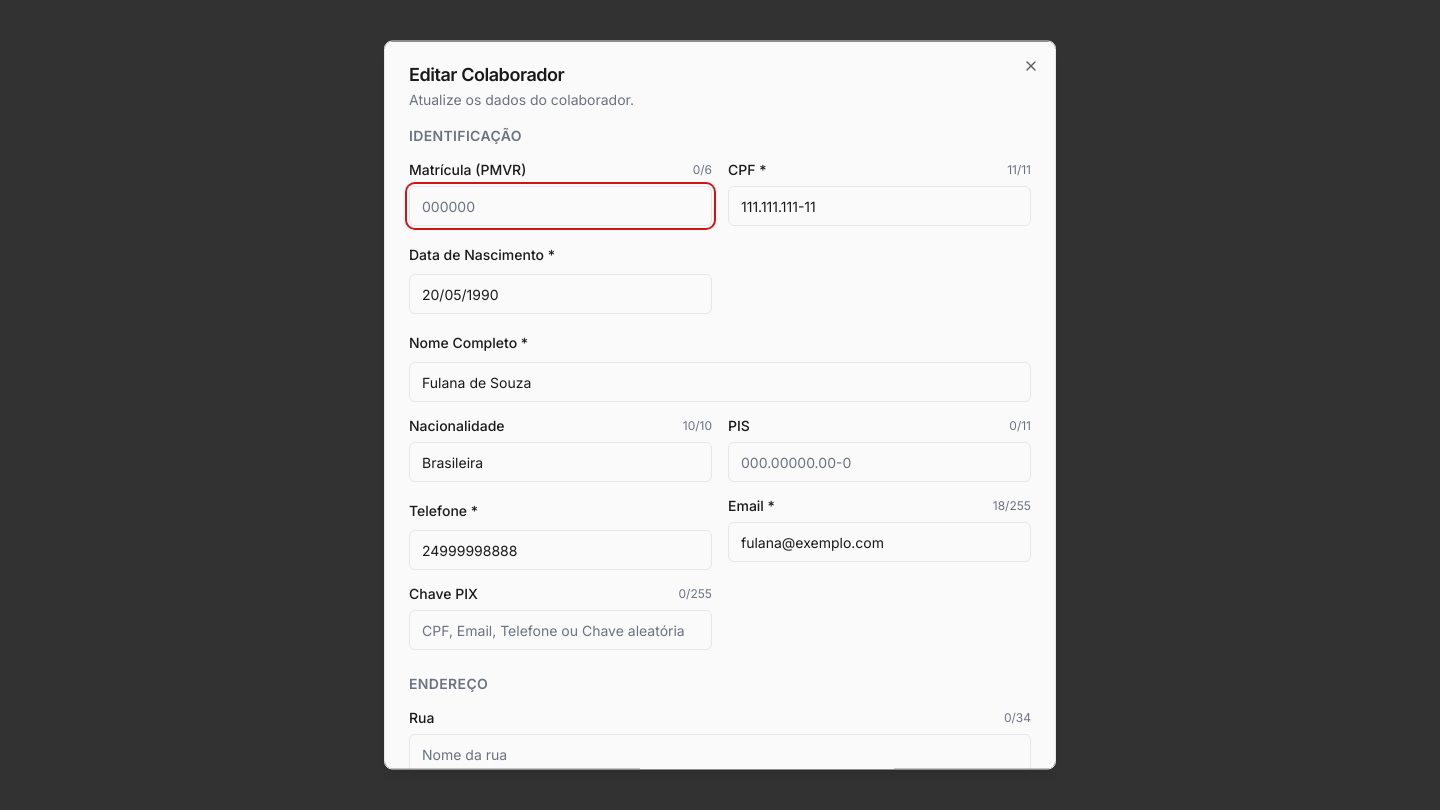
Test: ColaboradorDialog (interação) › validação › mas ALTERAR o CPF de um cadastro legado passa a exigir CPF válido
This screenshot has width=1440, height=810.
Replace the text in the field labelled "CPF *" with "22222222222": (880, 206) [728,186,1031,226]
(page scrolled)
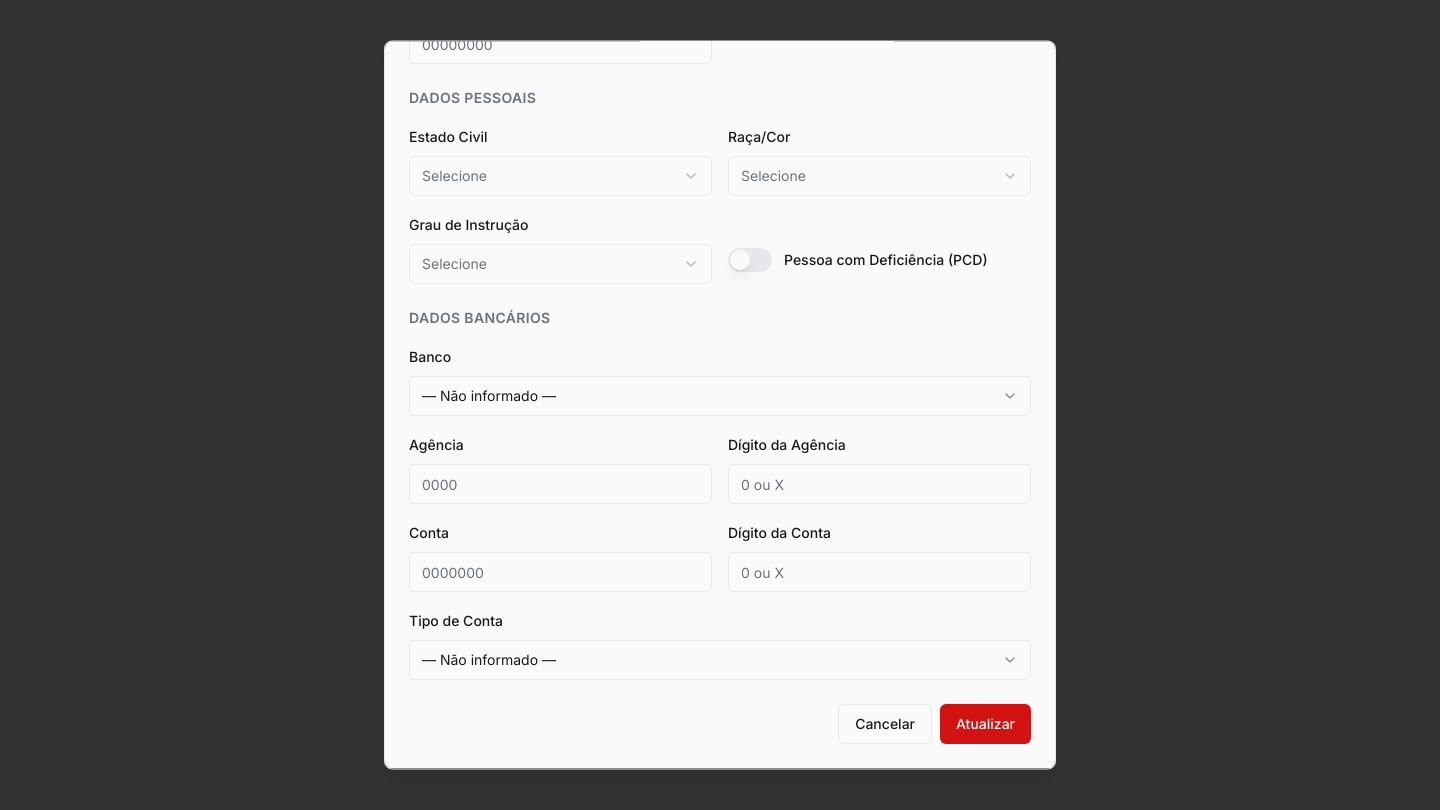
Click the button "Atualizar": (986, 724) [940,704,1031,744]
(page scrolled)
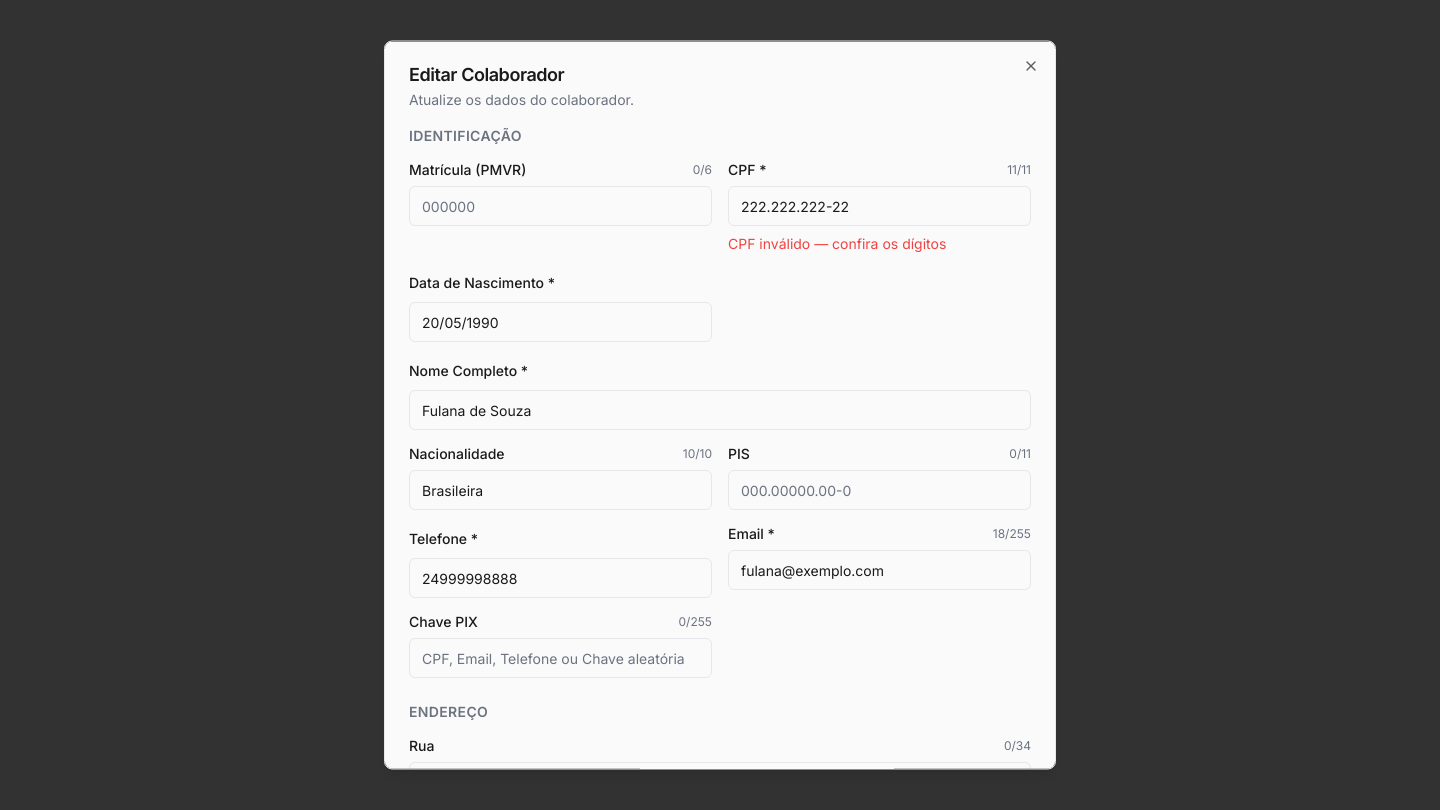
Check: the text "CPF inválido — confira os dígitos" is shown, box [728,234,946,252]
